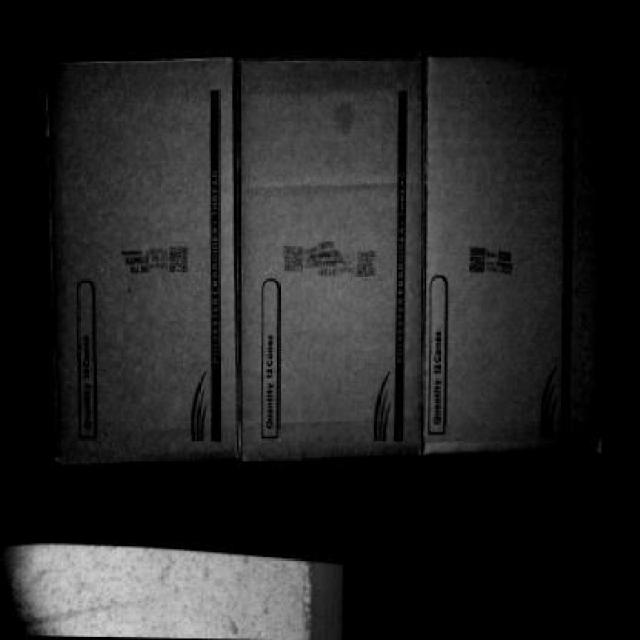cardboxes: (48, 61, 244, 458), (238, 66, 427, 460), (430, 57, 608, 451)
